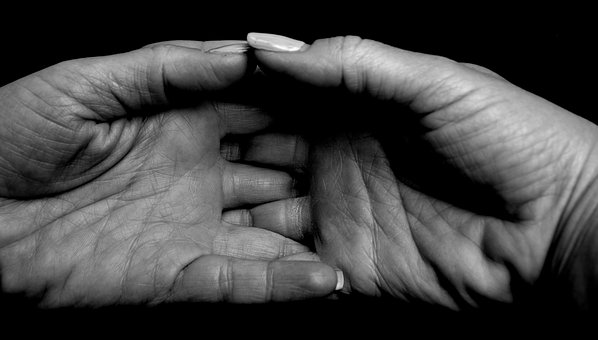palm: (332, 101, 534, 294), (38, 108, 218, 284)
